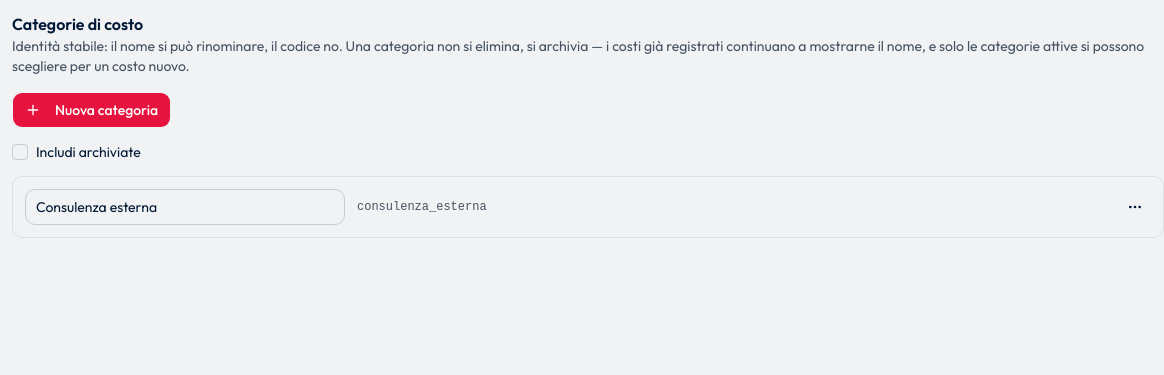
Test: CostCategoriesPanel › clears the previous failure when the retry succeeds
This screenshot has width=1164, height=375.
Click the button named "Azioni per Consulenza esterna": [1135, 207] box [1119,191,1151,223]
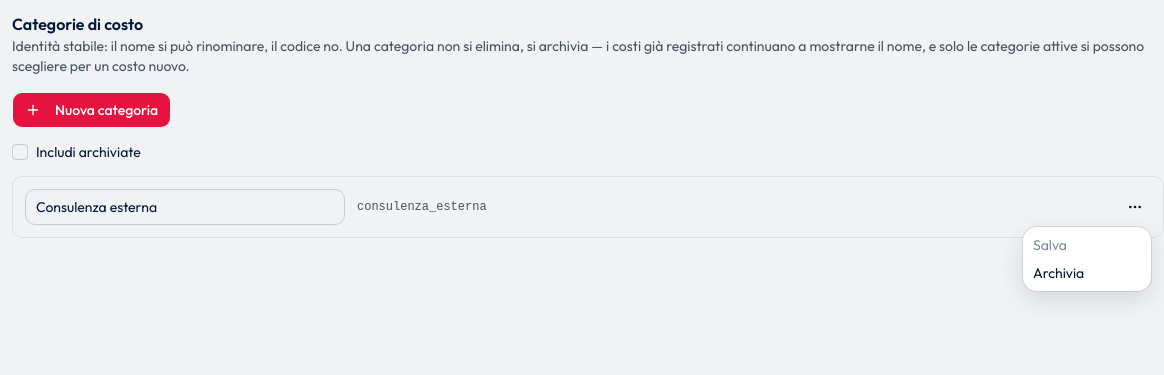
Click the menu item "Archivia": [1059, 273] box [1033,264,1084,282]
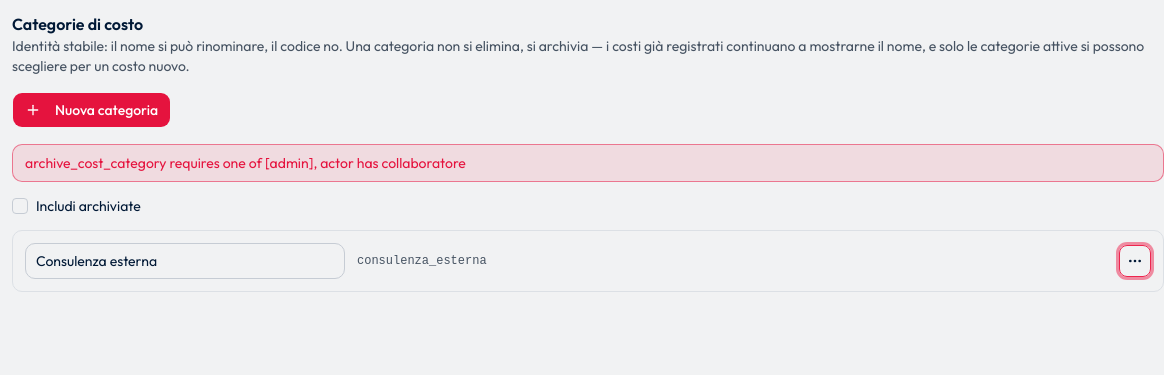
Now the message shows "requires one of", box [25,154,466,172]
Click the button named "Azioni per Consulenza esterna": [1135, 261] box [1119,245,1151,277]
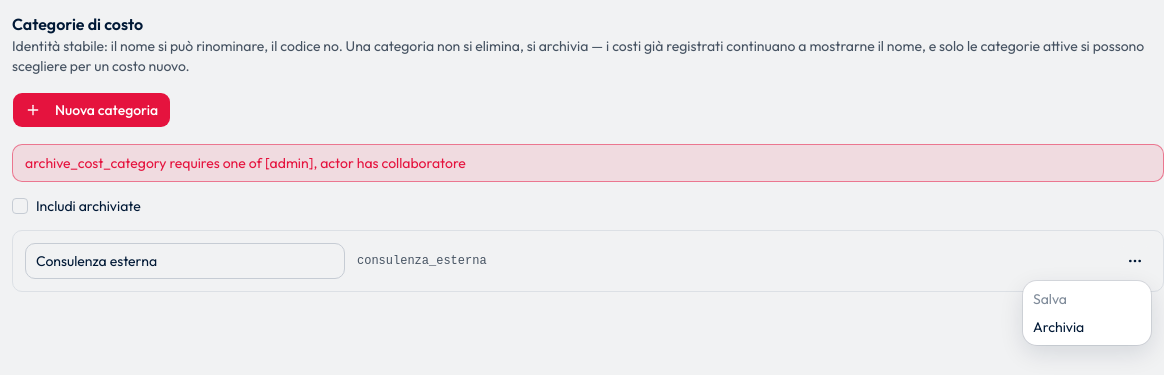
Click the menu item "Archivia": [1059, 327] box [1033,318,1084,336]
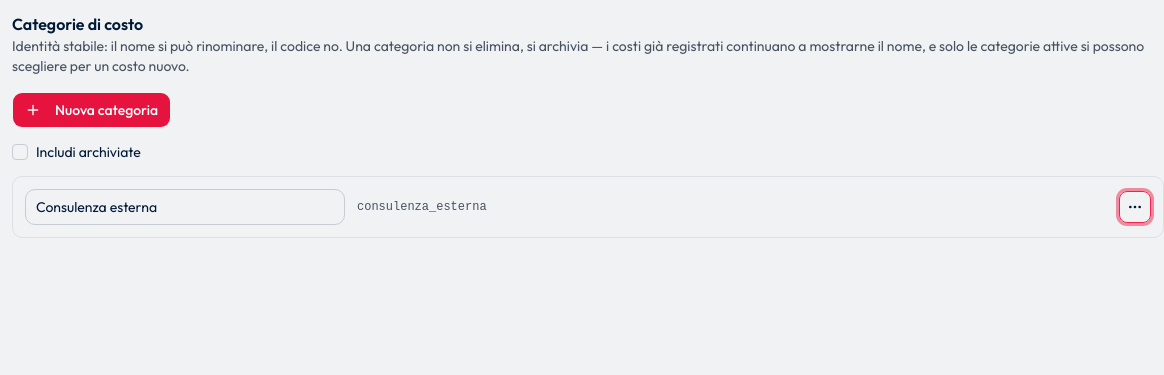
Now the message "archive_cost_category requires one of [admin], actor has collaboratore" is gone
